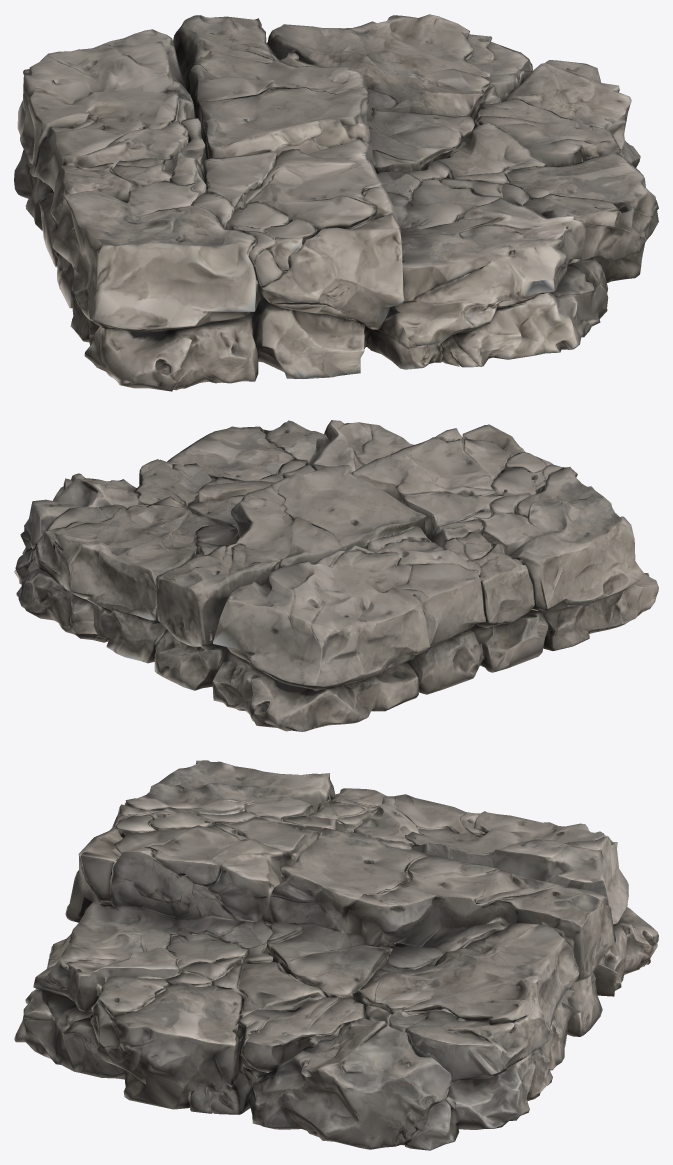
File: outcrop_b.glb
3 renders of one model, top to bottom at view 1: azimuth 30°, elevation 25°; view 2: azimuth 150°, elevation 25°; view 3: azimuth 270°, elevation 25°, orthographic. The views are drawn at different scales.
Visible parts, largest first — view 1: outcrop_b; view 2: outcrop_b; view 3: outcrop_b.
Part boxes in pixels (x1,y1,x2,y2): outcrop_b: (14,14,658,391); outcrop_b: (14,420,658,731); outcrop_b: (14,760,658,1150).
Bounding box in the file's own units: 17.01 × 3.83 × 16.23.
Materials: 1 (1 with a texture image).
